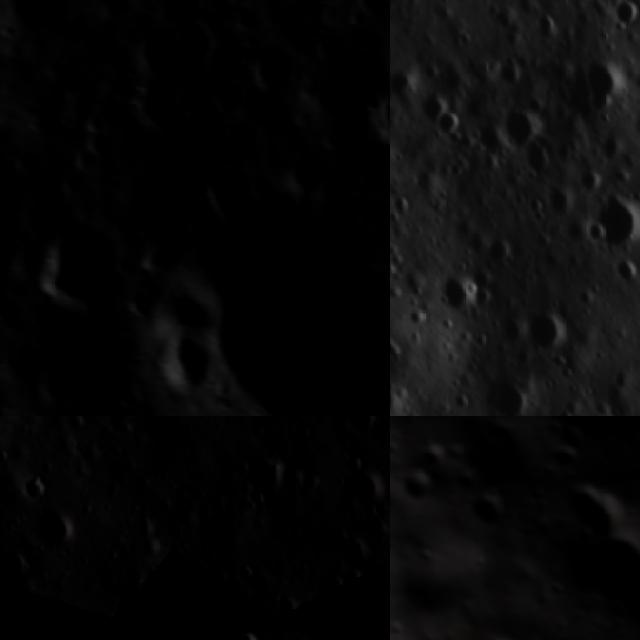crater: (186, 215, 390, 416), (545, 514, 640, 632), (32, 212, 124, 326), (547, 465, 640, 556), (560, 42, 638, 122), (569, 178, 640, 262), (228, 434, 302, 508), (194, 498, 264, 566), (204, 160, 270, 228), (507, 297, 575, 363), (24, 497, 89, 562), (0, 0, 74, 56), (330, 452, 390, 521), (485, 94, 548, 158), (320, 514, 381, 579), (458, 114, 518, 174), (152, 338, 208, 400), (160, 589, 225, 640), (471, 366, 537, 416), (157, 281, 214, 337), (424, 262, 478, 320), (128, 80, 185, 134), (390, 460, 441, 517), (250, 42, 298, 102), (462, 489, 514, 540), (8, 460, 59, 510), (363, 70, 390, 163), (135, 31, 187, 78), (278, 148, 325, 198), (539, 435, 587, 483), (513, 134, 560, 182), (0, 534, 44, 585), (328, 416, 390, 452), (406, 86, 453, 133), (390, 58, 427, 113), (551, 418, 596, 463), (312, 168, 356, 214), (412, 436, 458, 479), (608, 582, 640, 639), (28, 90, 65, 139), (172, 24, 214, 67), (218, 610, 278, 640), (427, 102, 469, 144), (227, 552, 265, 592), (186, 114, 228, 150), (576, 216, 612, 254), (606, 0, 640, 32), (241, 228, 278, 256), (159, 0, 205, 22), (347, 0, 390, 21), (355, 621, 390, 640), (48, 402, 82, 416)
